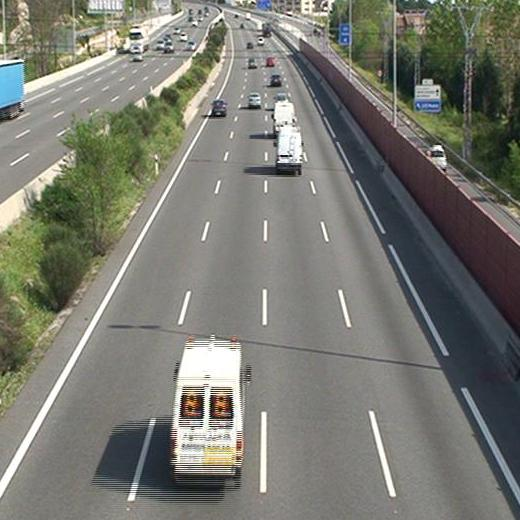car: (247, 92, 262, 108), (212, 100, 226, 116), (270, 74, 281, 86), (265, 56, 276, 67), (247, 58, 256, 68)
van: (169, 334, 248, 483), (276, 127, 301, 170), (273, 100, 297, 137)
